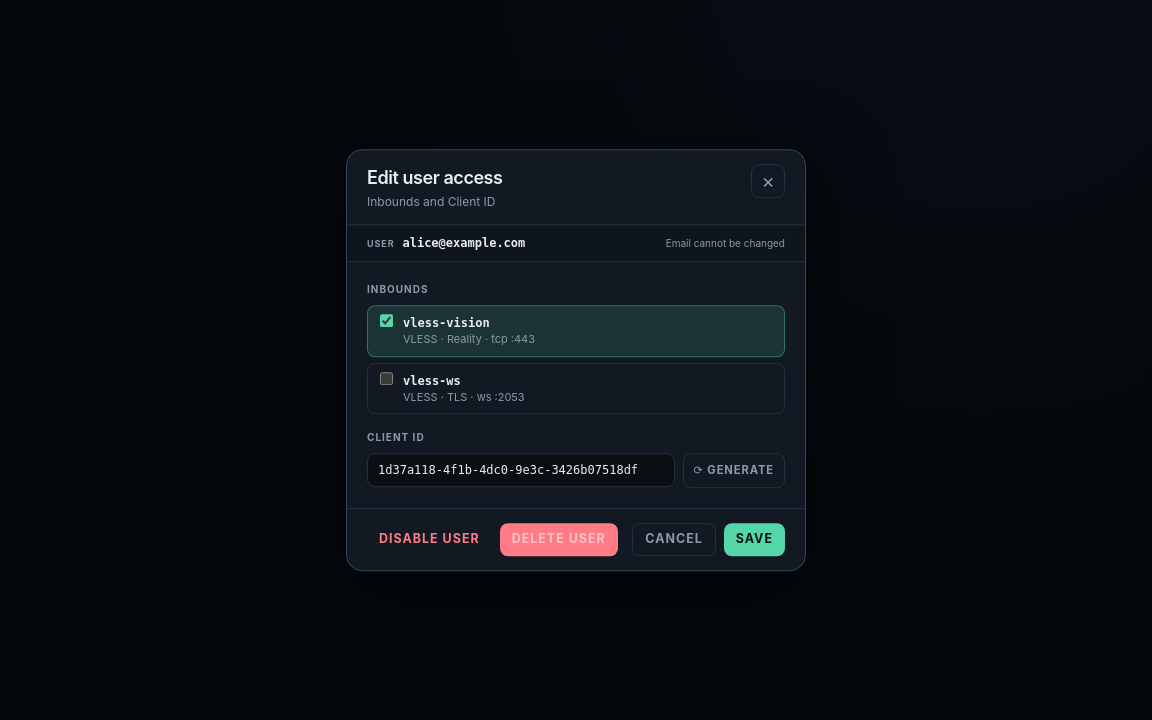
it: edit user dialog › shows the machine-readable conflict reason in the dialog
Click the button "Save" at (754,539), box [724,523,785,556]
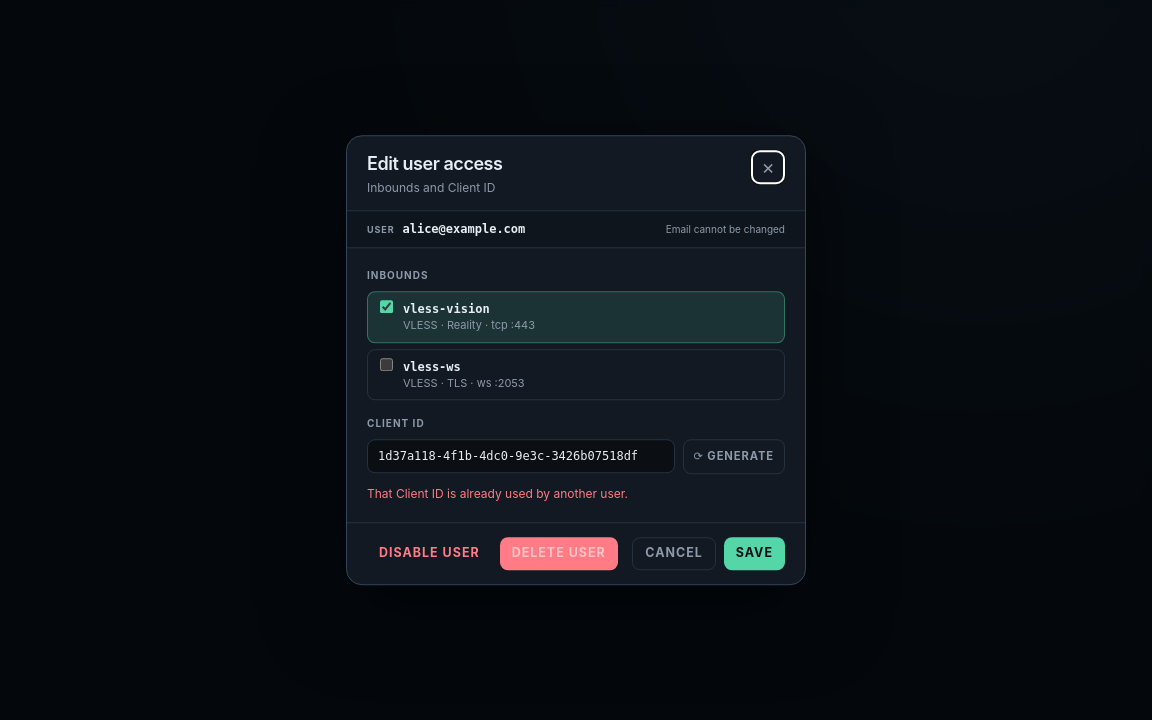
Expected: the button "Save" is enabled, [724,537,785,570]
Now the text "That Client ID is already used by another user." is shown, box [367,486,628,501]
